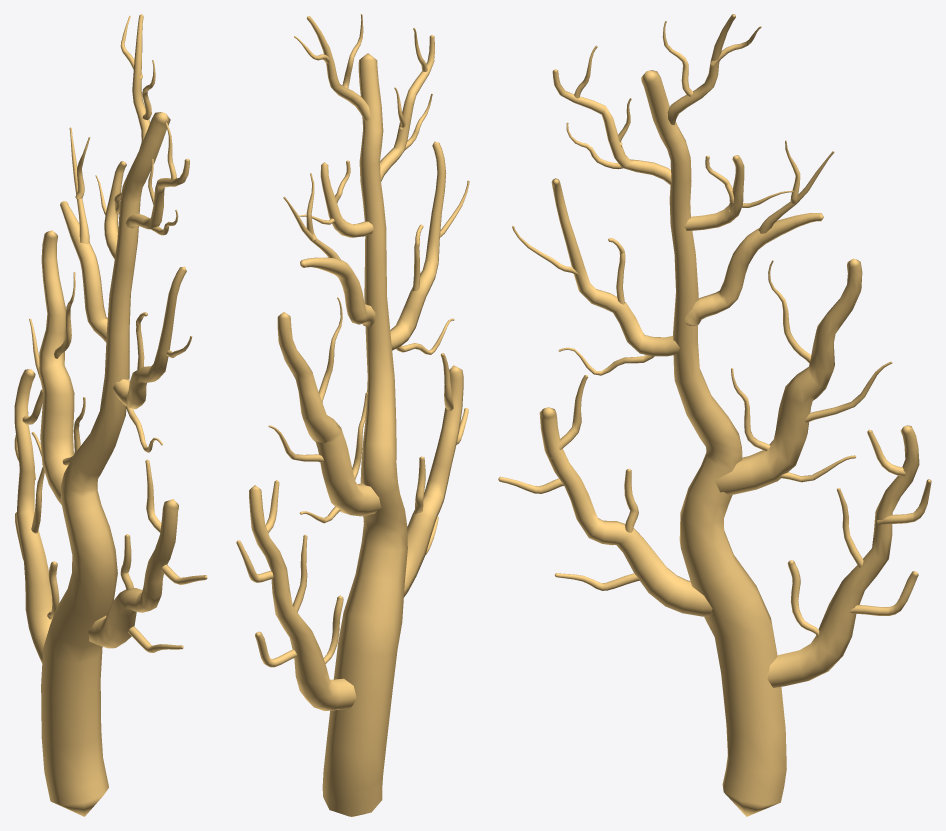
File: coral2.fbx
The picture shows the model from 3 angles, left to right: view 1: azimuth 30°, elevation 25°; view 2: azimuth 150°, elevation 25°; view 3: azimuth 270°, elevation 25°; orthographic projection. The views are drawn at different scales.
Parts seen in each view (by area): view 1: Object_16; view 2: Object_16; view 3: Object_16.
Part boxes in pixels (left/top/right/bottom): Object_16: left=14, top=14, right=207, bottom=816; Object_16: left=236, top=14, right=469, bottom=816; Object_16: left=498, top=14, right=931, bottom=816.
Size of the model in its own units: 4.52 by 37.69 by 17.87.
1 material, 1 textured.
